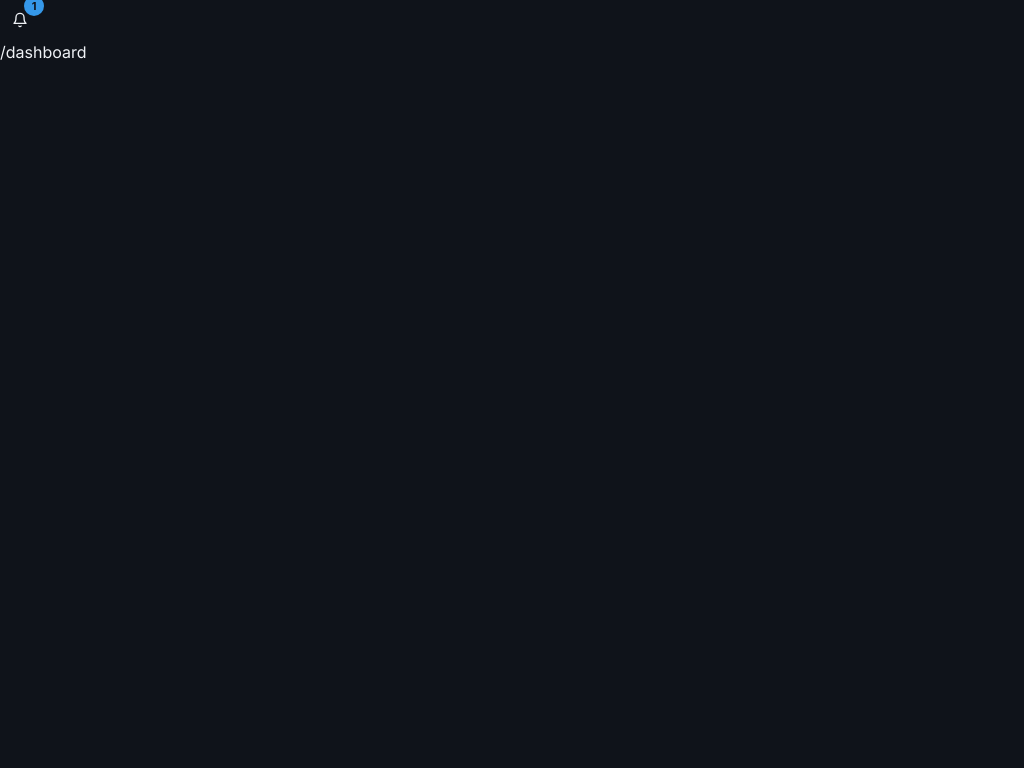
Test: NotificationPanel — the stored bell › offers no answer on a cancelled meeting's invite
Click the button named "unread notifications". click: (20, 20)
box: [0, 0, 40, 40]
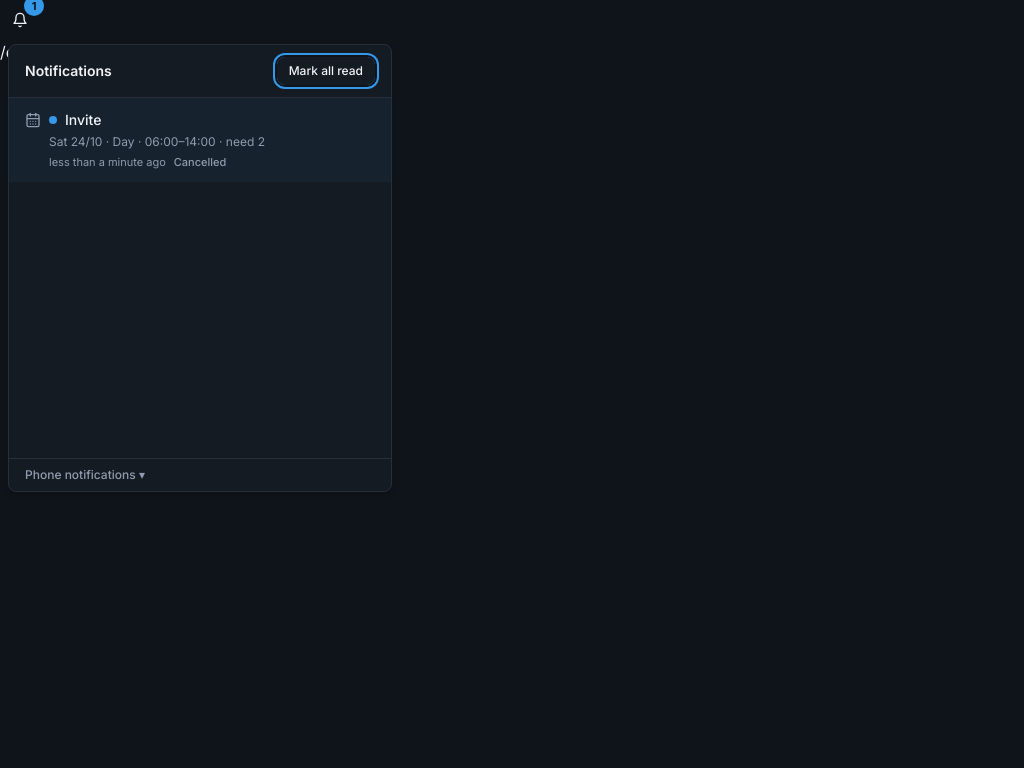
Now the text "Cancelled" is shown, box [174, 155, 226, 169]
